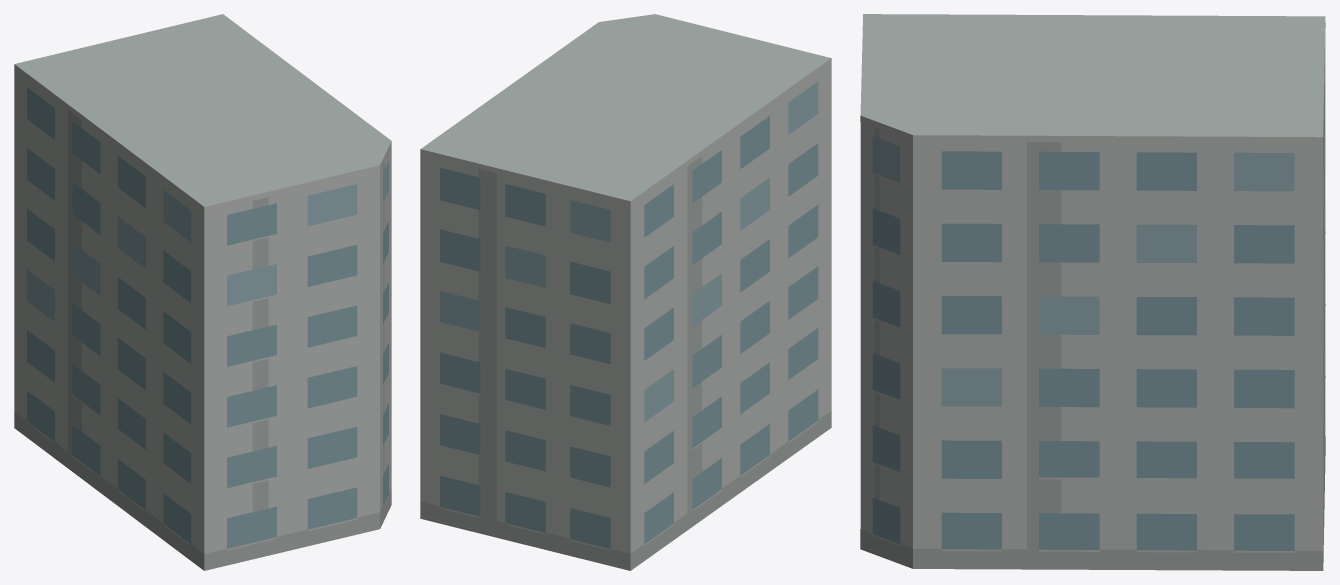
Rendered from survey-upis-32543215.glb.
3 views of the same model, side by side, from view 1: azimuth 30°, elevation 25°; view 2: azimuth 150°, elevation 25°; view 3: azimuth 270°, elevation 25° (orthographic). The views are drawn at different scales.
Parts seen in each view (by area): view 1: survey-upis-32543215.tmp; view 2: survey-upis-32543215.tmp; view 3: survey-upis-32543215.tmp.
Part boxes in pixels (left/top/right/bottom): survey-upis-32543215.tmp: left=14, top=14, right=391, bottom=570; survey-upis-32543215.tmp: left=420, top=14, right=831, bottom=570; survey-upis-32543215.tmp: left=860, top=14, right=1325, bottom=570.
Bounding box in the file's own units: 10.18 × 16.7 × 16.24.
